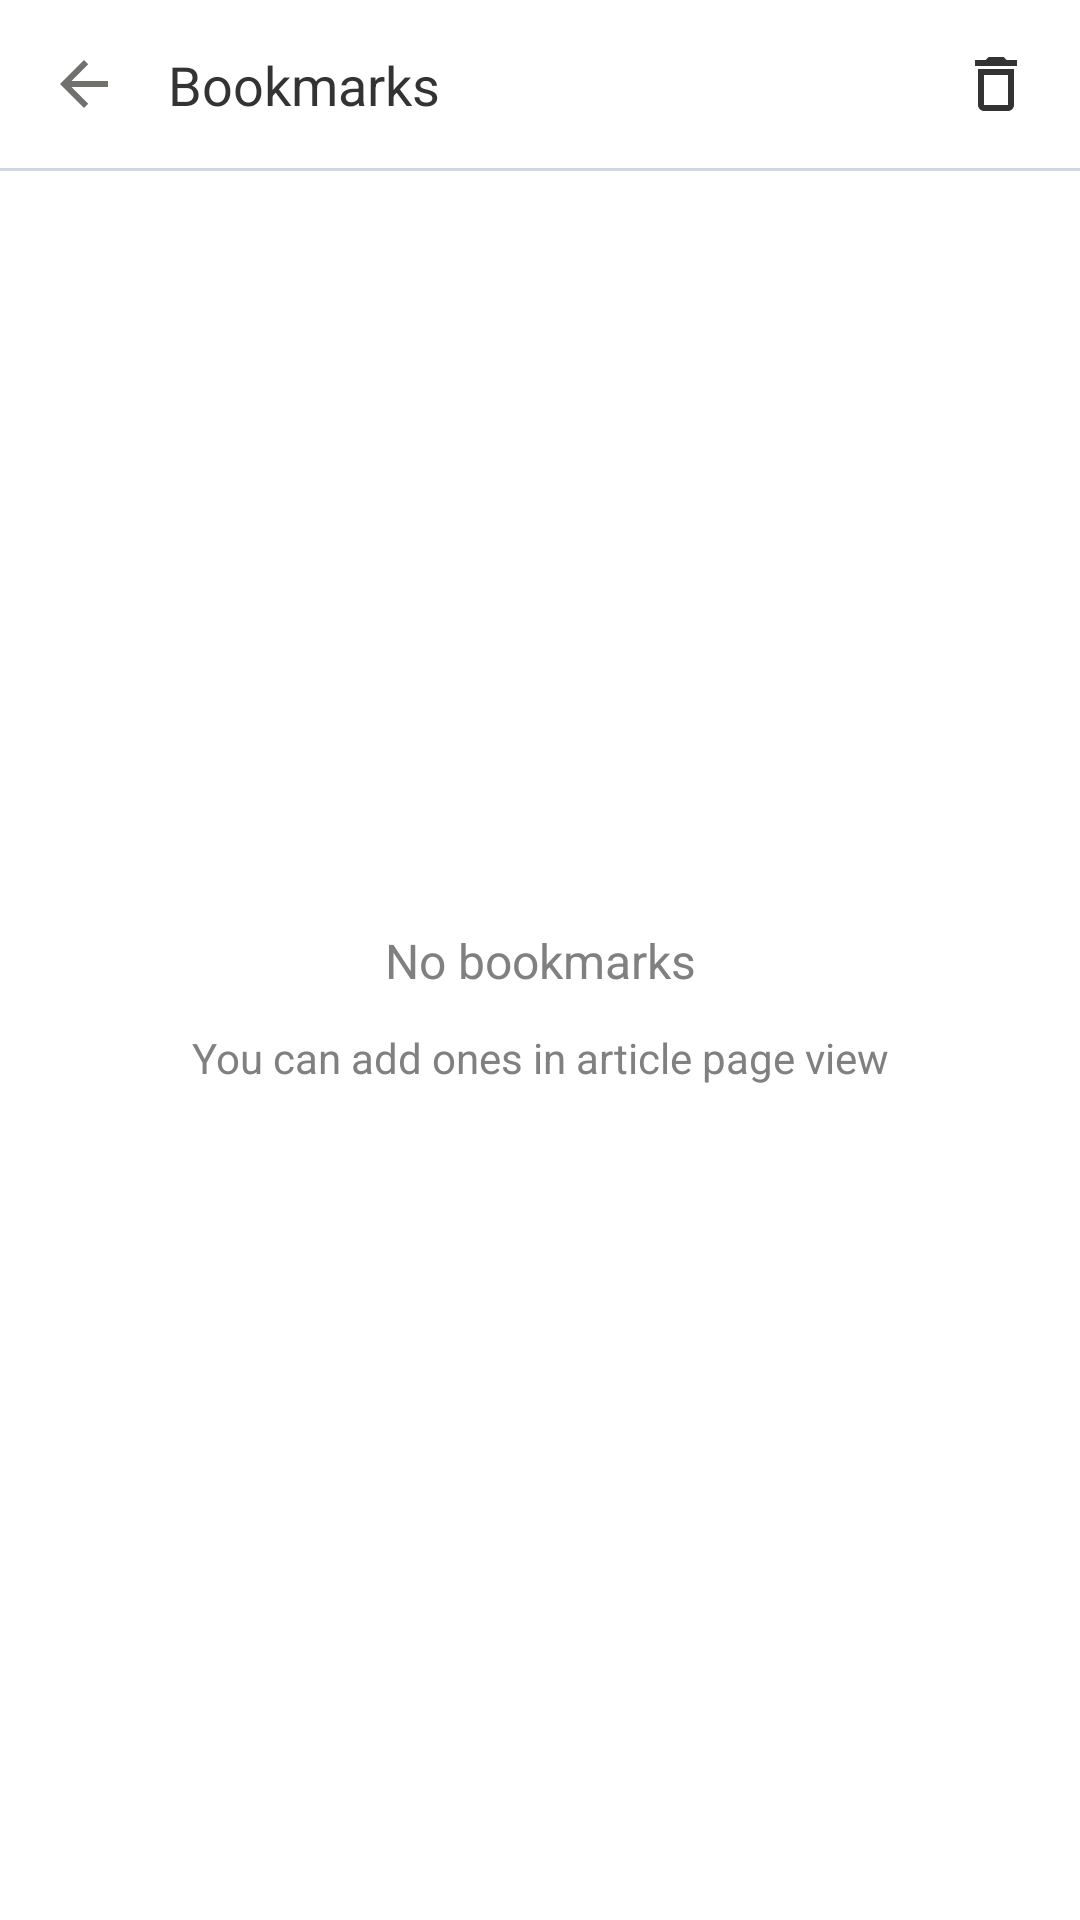

Point at icon controls on the screen. Image size 1080*1920, points as (x,y).
back: (84,84)
bookmarks delete: (996,84)
